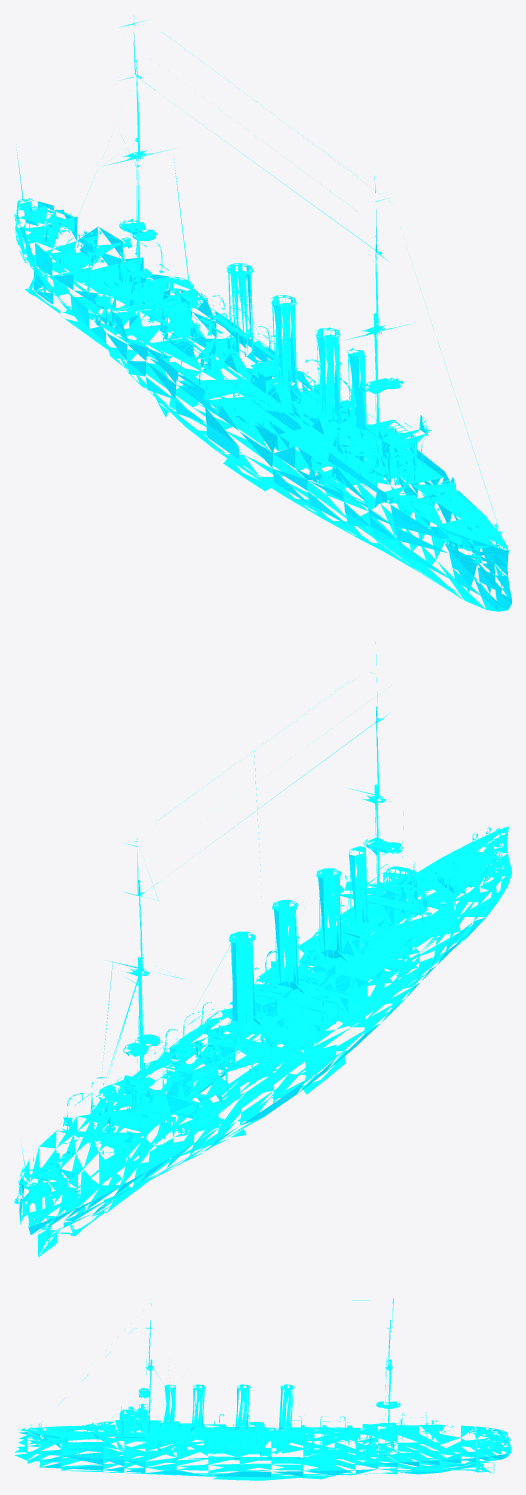
File: Emden.glb
3 views of the same model, one above another, from view 1: azimuth 30°, elevation 25°; view 2: azimuth 150°, elevation 25°; view 3: azimuth 270°, elevation 25° (orthographic). The views are drawn at different scales.
Size of the model in its own units: 0.924 by 3.29 by 7.89.
